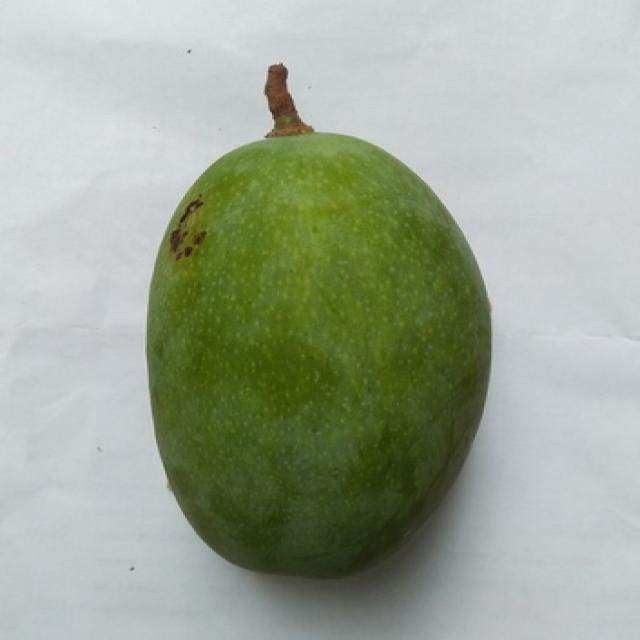Mango: (147, 114, 490, 576)
